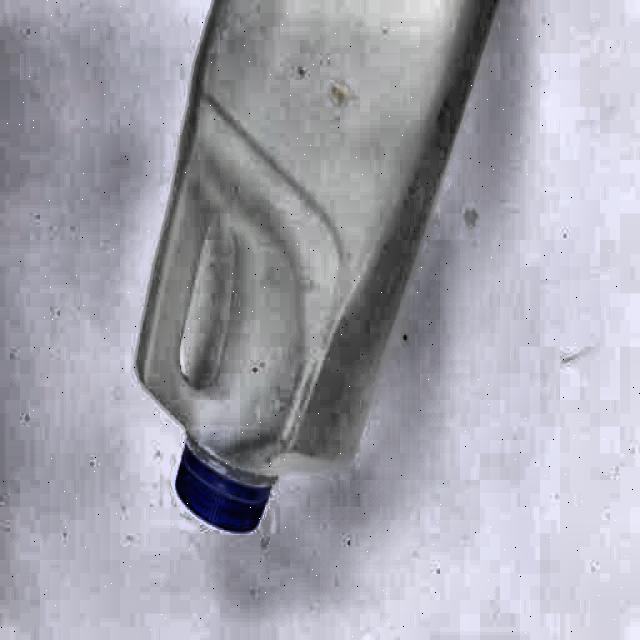plastic: (121, 4, 499, 528)
